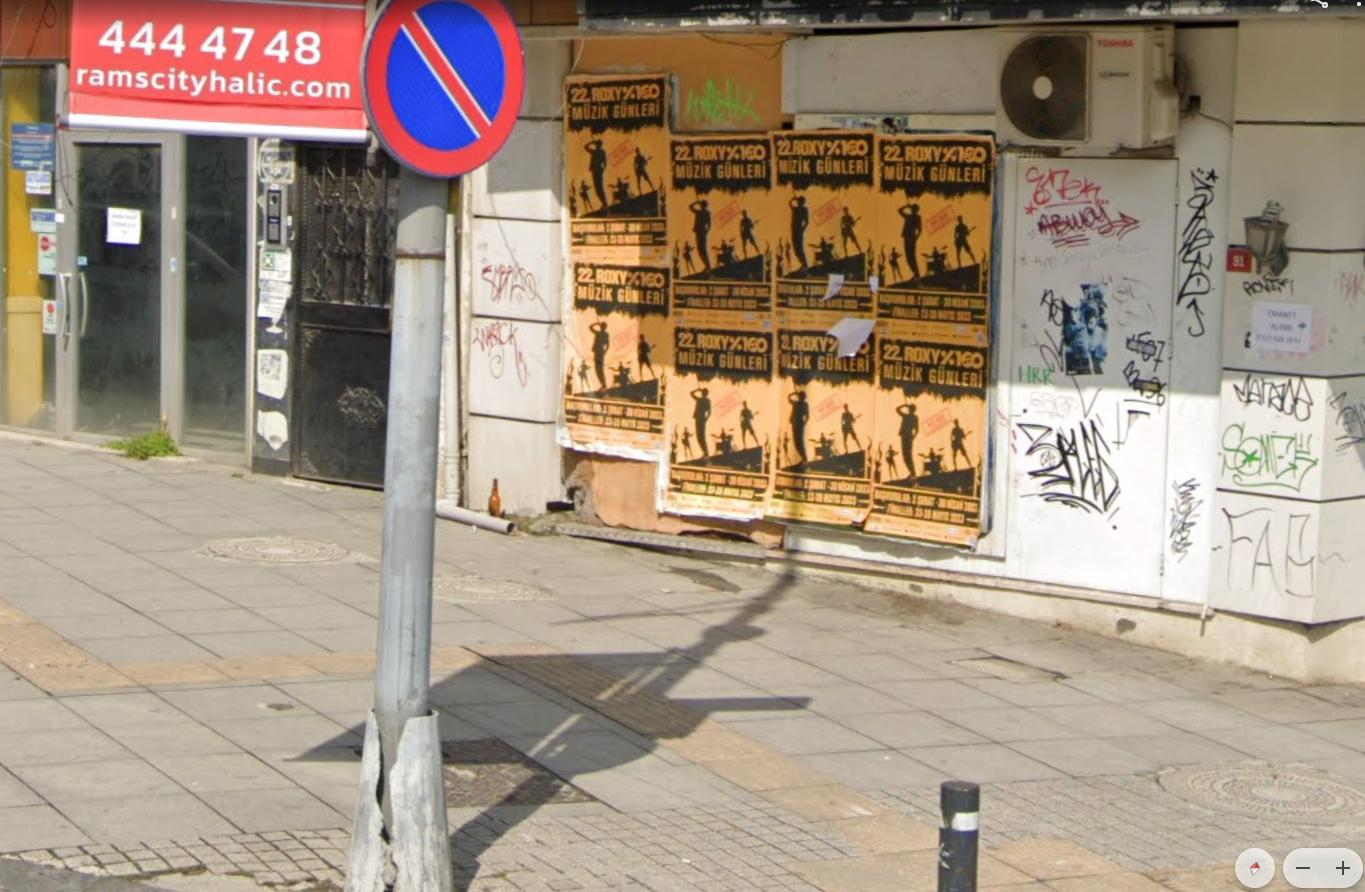nopark: (362, 1, 519, 169)
